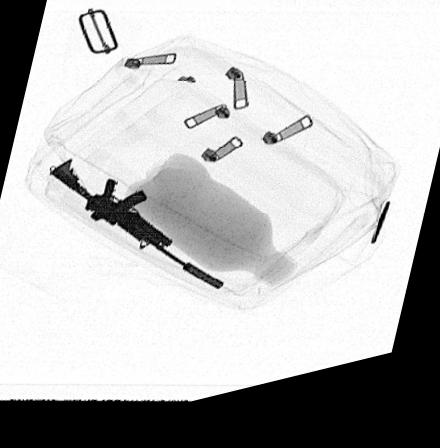Gun: (49, 160, 227, 301)
